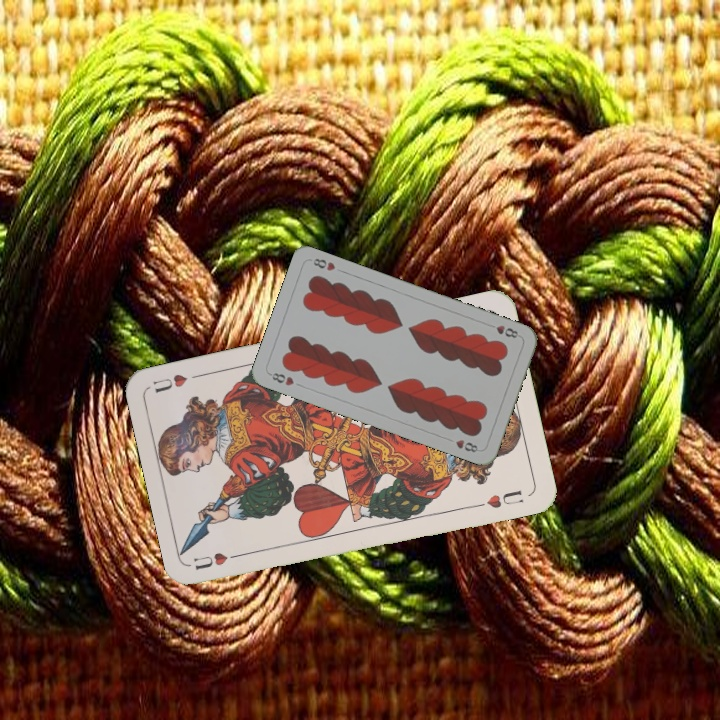H8: (265, 368, 297, 388), (492, 321, 521, 341)
HU: (190, 548, 247, 572)
